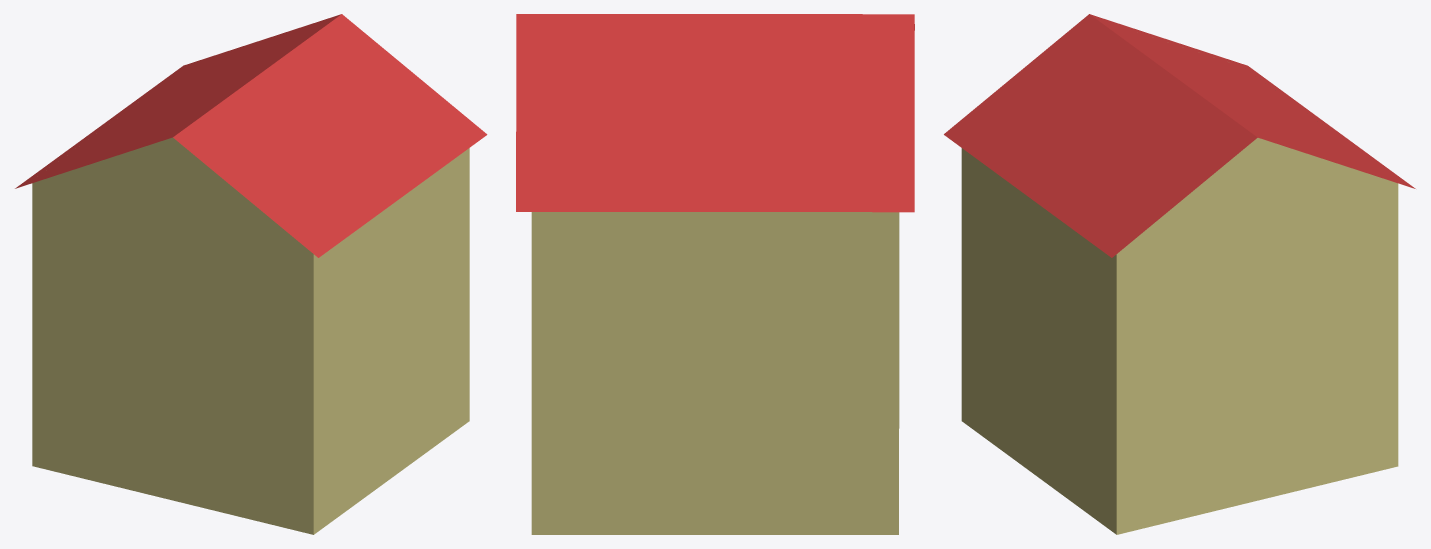
3 views of the same model, side by side, from view 1: azimuth 30°, elevation 25°; view 2: azimuth 150°, elevation 25°; view 3: azimuth 270°, elevation 25° (orthographic). The views are drawn at different scales.
Size of the model in its own units: 8.83 by 8.92 by 7.69.
